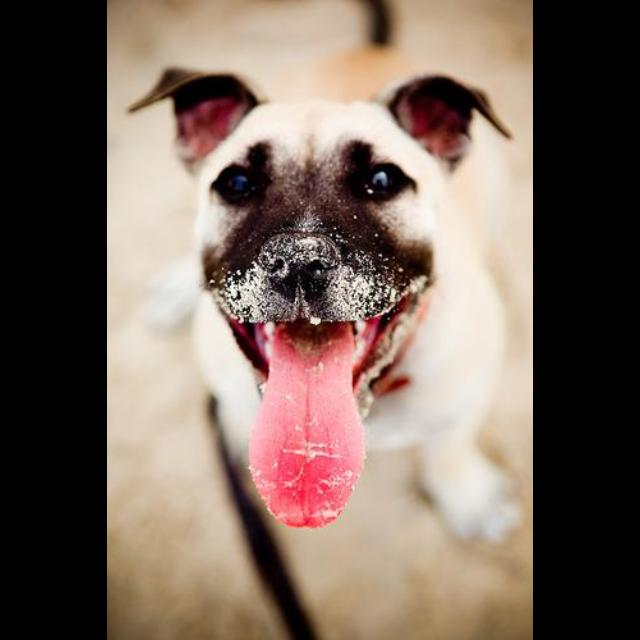staffford: (126, 65, 526, 545)
